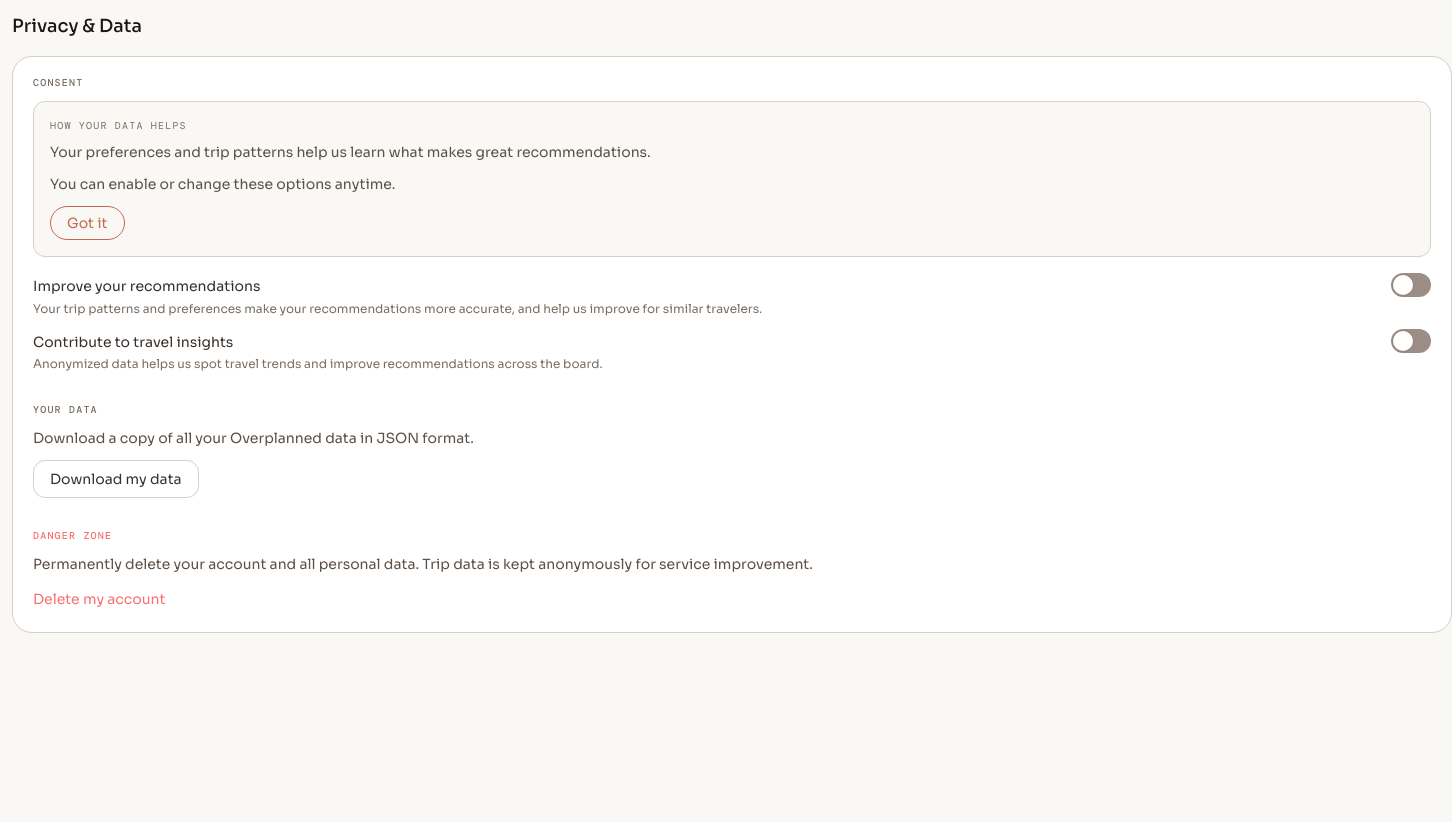
Test case: PrivacySection › delete shows inline confirmation with email input
Click the button "Delete my account" at {"x": 99, "y": 599}, box [33,589,165,609]
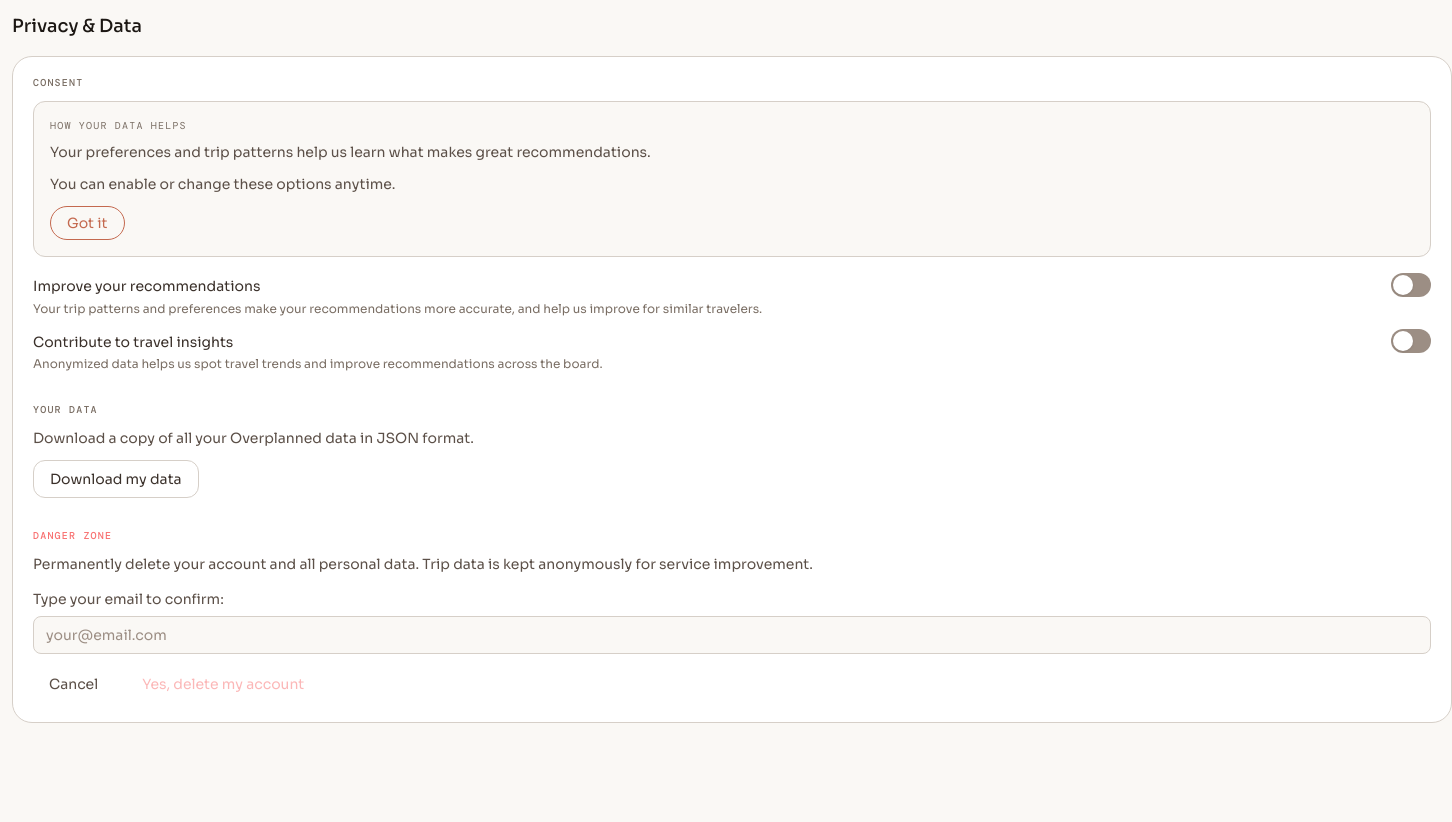
Now the text "Type your email to confirm:" is shown, box [33,590,224,608]
Now the button "Cancel" is shown, box [33,666,114,702]
Now the button "Yes, delete my account" is shown, box [126,666,320,702]
